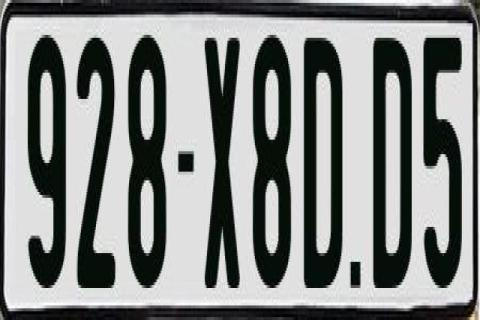0: (28, 32, 73, 288), (252, 32, 296, 288), (424, 29, 465, 297), (127, 32, 169, 285), (74, 29, 114, 294)
D: (303, 29, 343, 294), (374, 29, 414, 288)
X: (205, 29, 247, 282)
